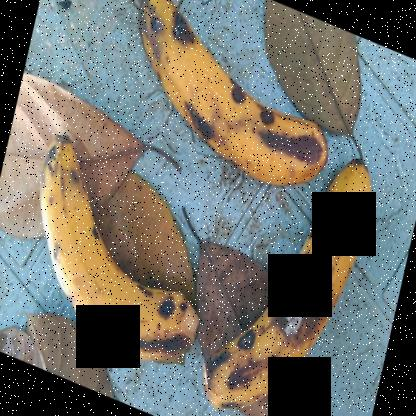overripe: (202, 152, 378, 410), (126, 1, 330, 192), (37, 152, 202, 382)
rotten: (260, 235, 342, 358)
